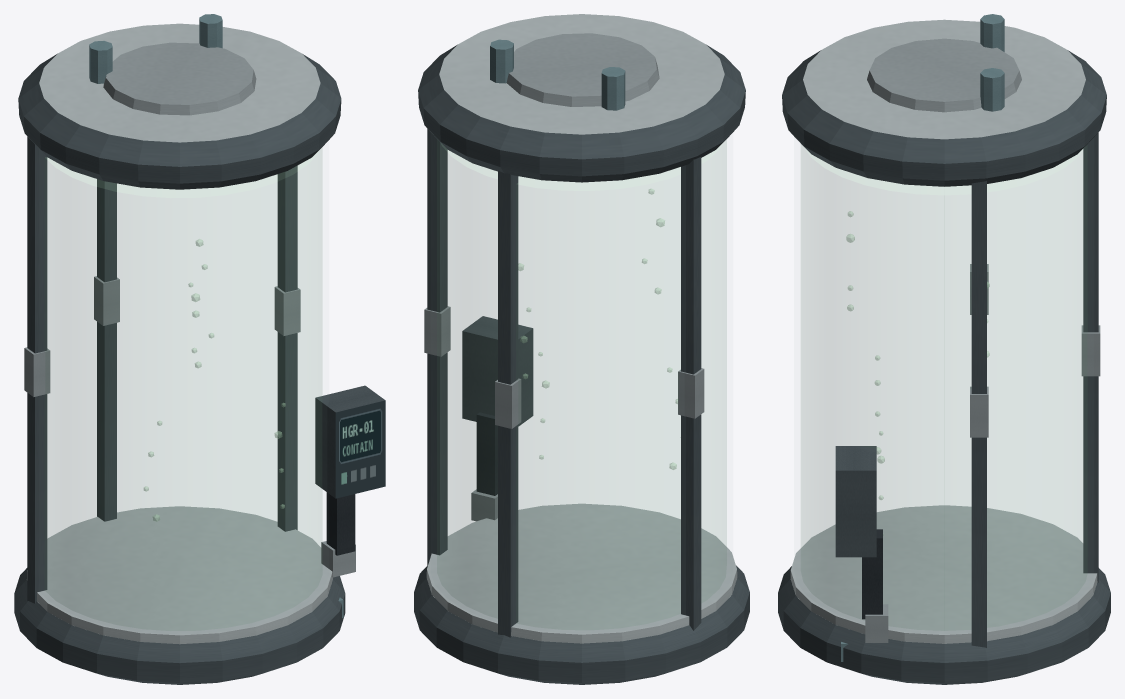
The model's file is Containment_Tank_No_Subject.glb.
The picture shows the model from 3 angles, left to right: view 1: azimuth 30°, elevation 25°; view 2: azimuth 150°, elevation 25°; view 3: azimuth 270°, elevation 25°; orthographic projection.
Parts seen in each view (by area): view 1: Tank_Frame; view 2: Tank_Frame; view 3: Tank_Frame.
Part boxes in pixels (x1=…): Tank_Frame: x1=14, y1=14, x2=385, y2=684; Tank_Frame: x1=414, y1=14, x2=749, y2=684; Tank_Frame: x1=778, y1=14, x2=1110, y2=684.
Bounding box in the file's own units: 1.57 × 2.92 × 1.52.
5 materials, 1 textured.
